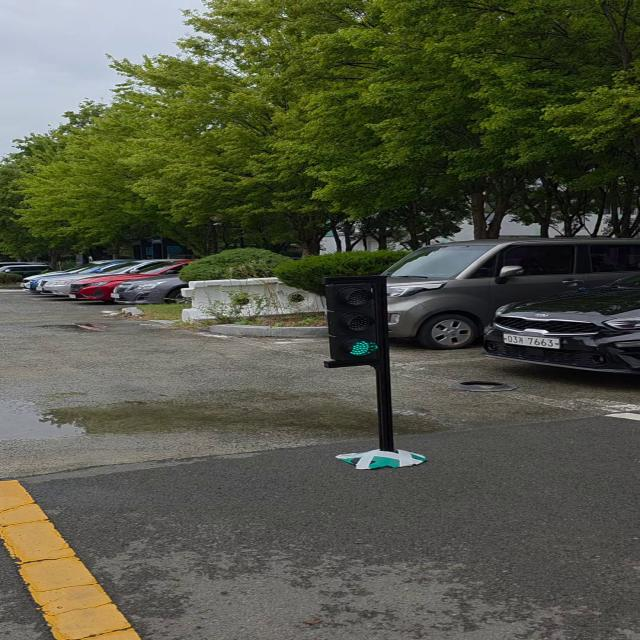green: (322, 276, 392, 368)
